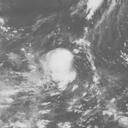cyclone: (41, 48, 77, 88)
